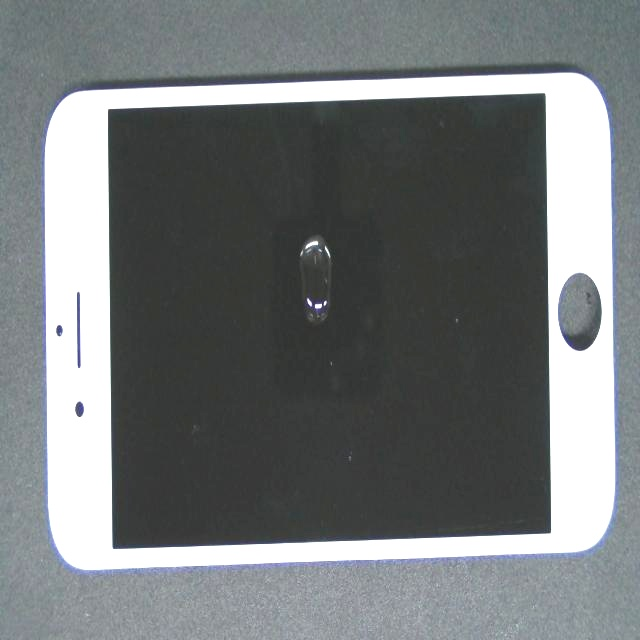oil: (178, 163, 502, 382)
